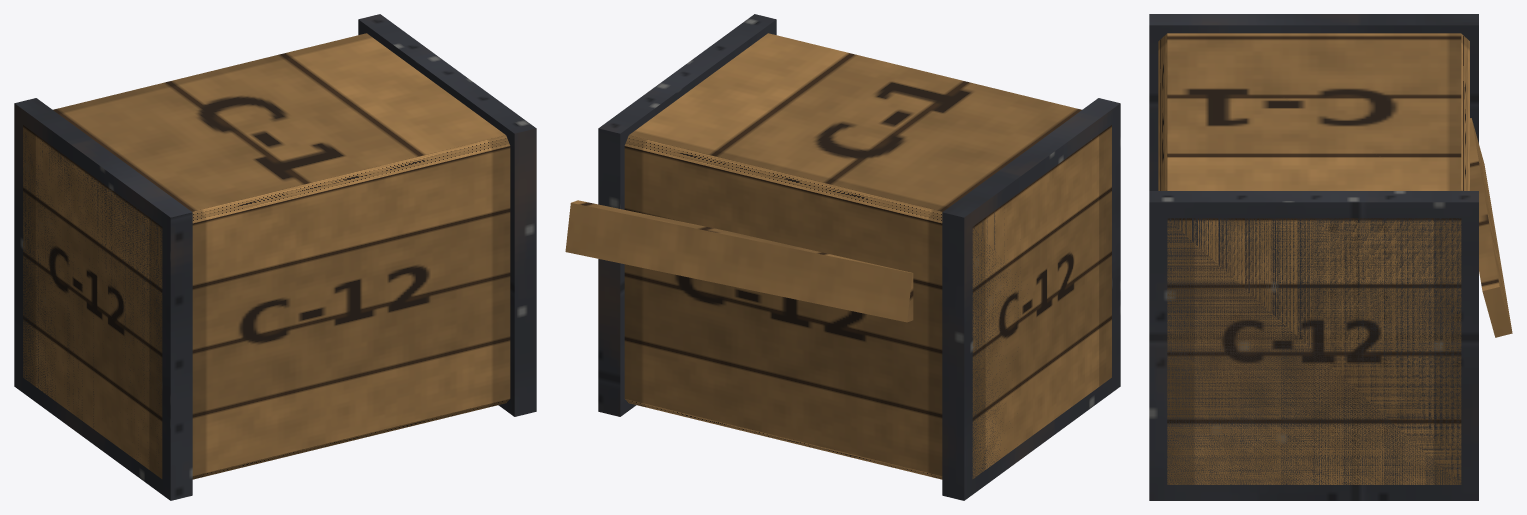
The model's file is Crate.fbx.
The picture shows the model from 3 angles, left to right: view 1: azimuth 30°, elevation 25°; view 2: azimuth 150°, elevation 25°; view 3: azimuth 270°, elevation 25°; orthographic projection. The views are drawn at different scales.
Parts seen in each view (by area): view 1: Crate; view 2: Crate; view 3: Crate.
Part boxes in pixels (left/top/right/bottom): Crate: left=14, top=14, right=536, bottom=500; Crate: left=565, top=14, right=1120, bottom=500; Crate: left=1149, top=14, right=1512, bottom=500.
Size of the model in its own units: 1.05 by 0.74 by 0.8152.
